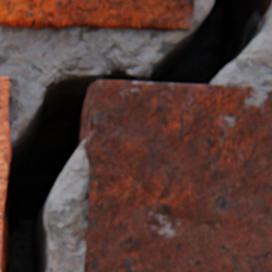brick: (79, 81, 271, 271), (0, 0, 192, 32), (0, 77, 10, 271)
crack: (1, 0, 271, 271)
